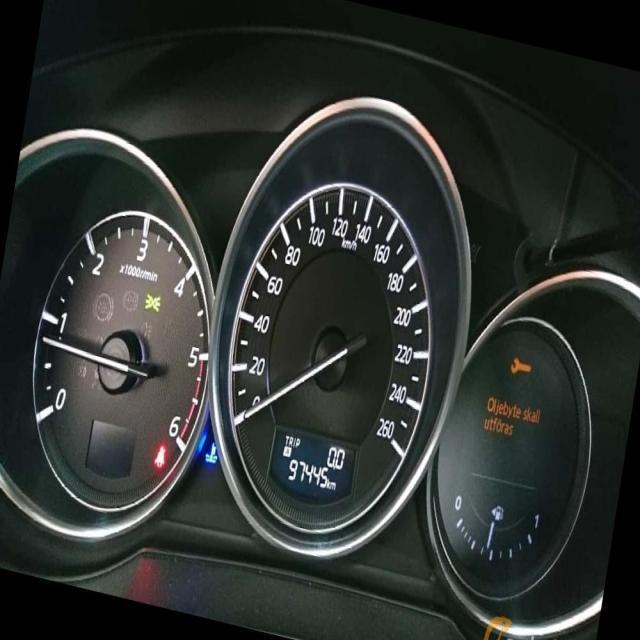Seat Belt: (153, 445, 166, 468)
